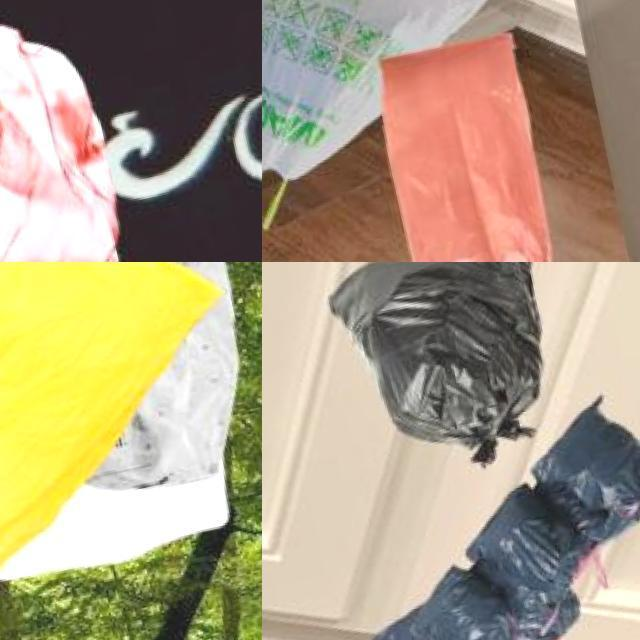waste: (0, 262, 262, 615), (262, 0, 513, 197), (331, 262, 563, 467), (378, 16, 565, 262), (463, 472, 602, 640), (523, 397, 640, 539), (369, 552, 527, 640)
